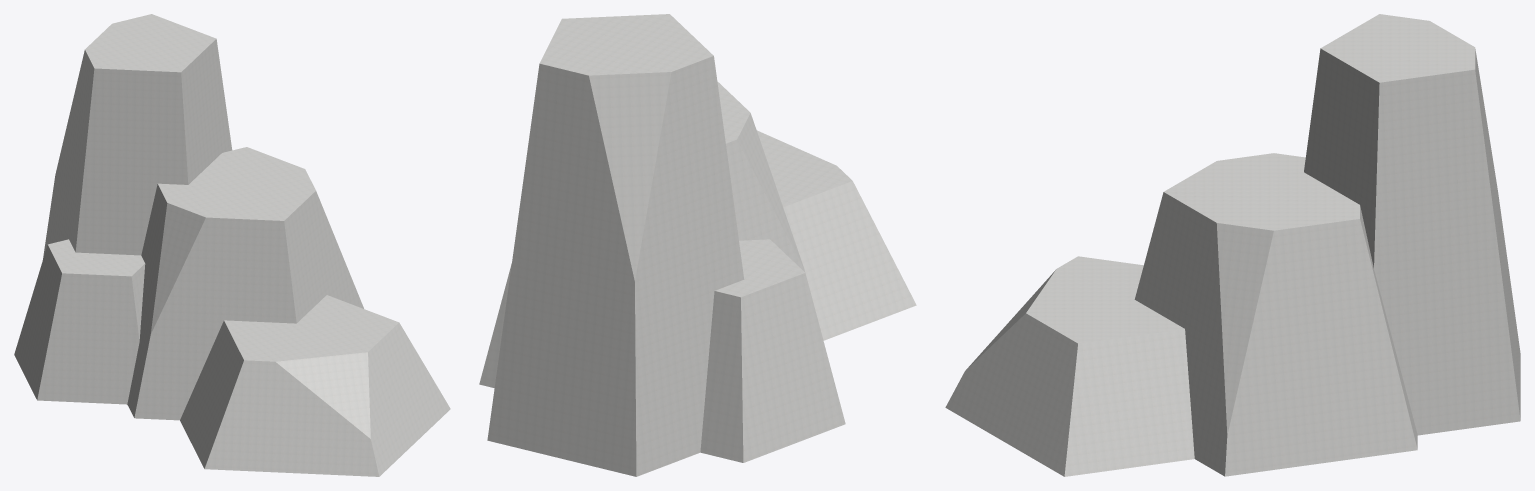
Rendered from Rock2.obj.
The picture shows the model from 3 angles, left to right: view 1: azimuth 30°, elevation 25°; view 2: azimuth 150°, elevation 25°; view 3: azimuth 270°, elevation 25°; orthographic projection. The views are drawn at different scales.
Parts seen in each view (by area): view 1: Rock2:rockWide; view 2: Rock2:rockWide; view 3: Rock2:rockWide.
Boxes of the visible parts, x1,y1,x2,y2 form: Rock2:rockWide: [14, 14, 450, 476]; Rock2:rockWide: [479, 14, 916, 476]; Rock2:rockWide: [945, 14, 1520, 476].
Size of the model in its own units: 1.09 by 1.02 by 1.57.
